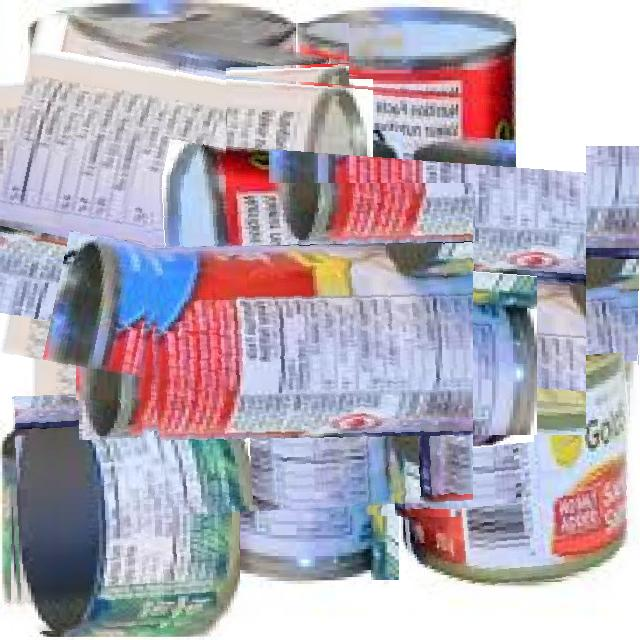recyclable: (0, 23, 349, 399), (226, 76, 586, 435), (140, 183, 473, 516), (396, 291, 640, 591), (7, 400, 240, 633)
